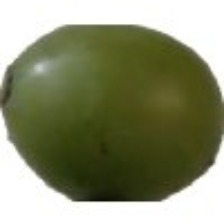grapes: (36, 26, 178, 210)
